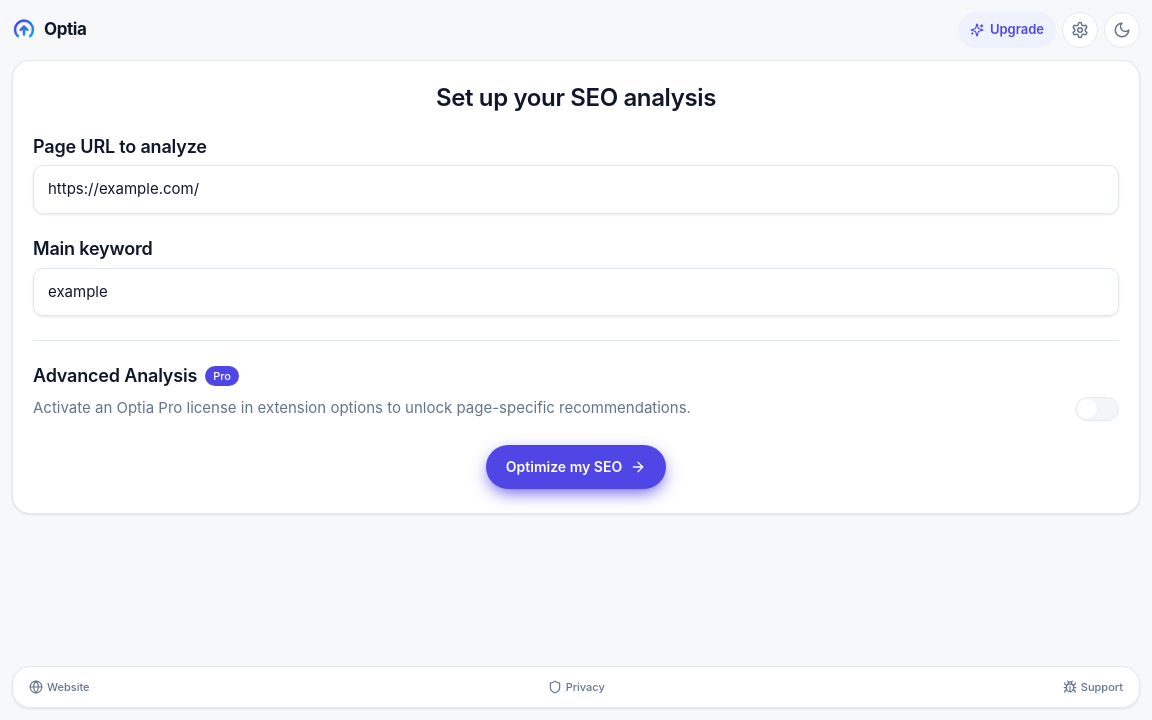
Test: App analysis usage counting › does not count an analysis that failed
Click the button "Optimize my SEO" at {"x": 576, "y": 467}, box [486,445,666,489]
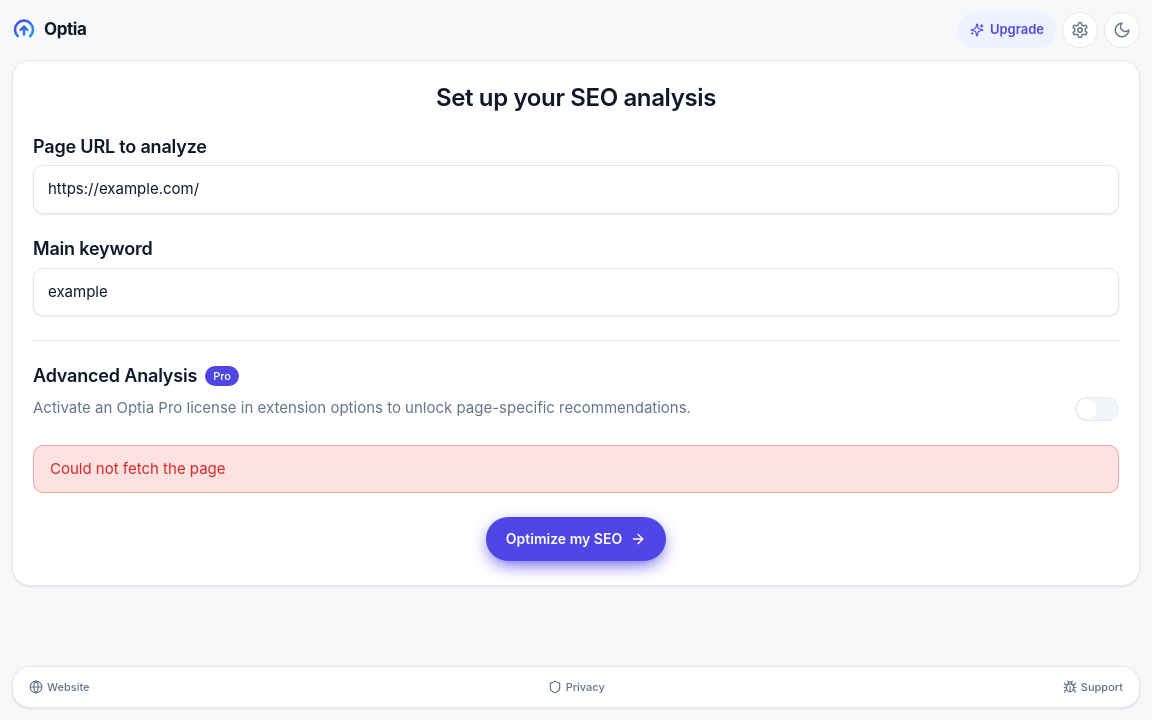
Expected: the text "Could not fetch the page" is shown, [33,445,1119,493]
